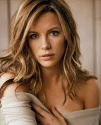female: (17, 3, 78, 75)
